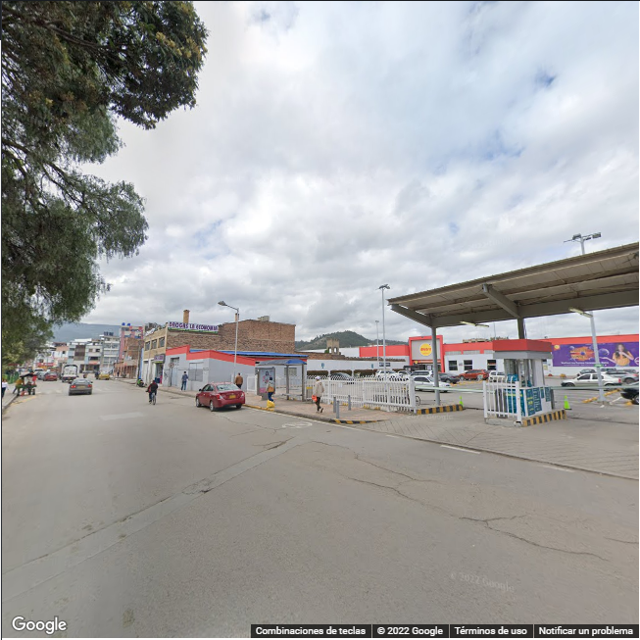D00: (347, 475, 601, 561)
D10: (480, 511, 522, 523)
